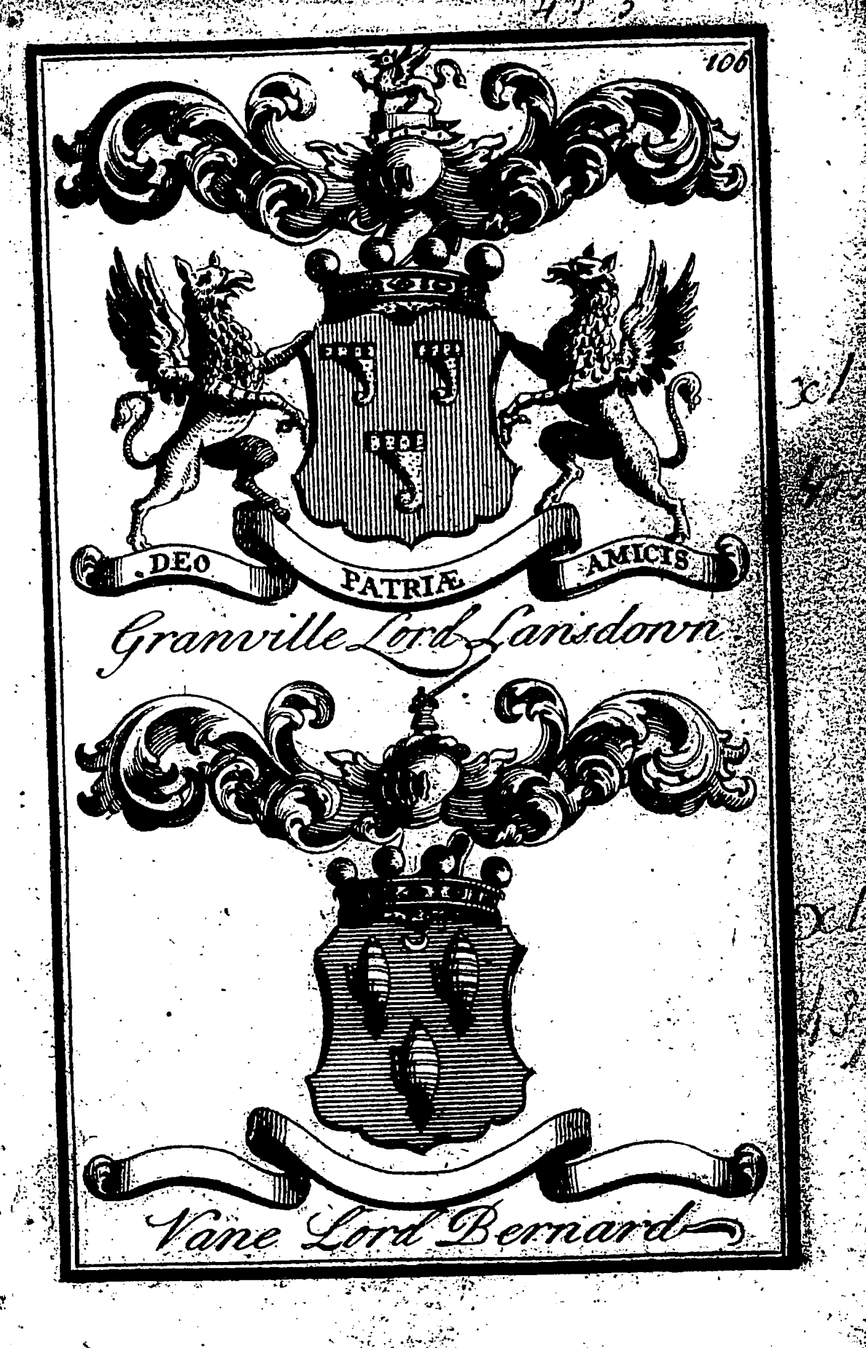coat_of_arms: (46, 64, 786, 659), (65, 656, 766, 1251)
